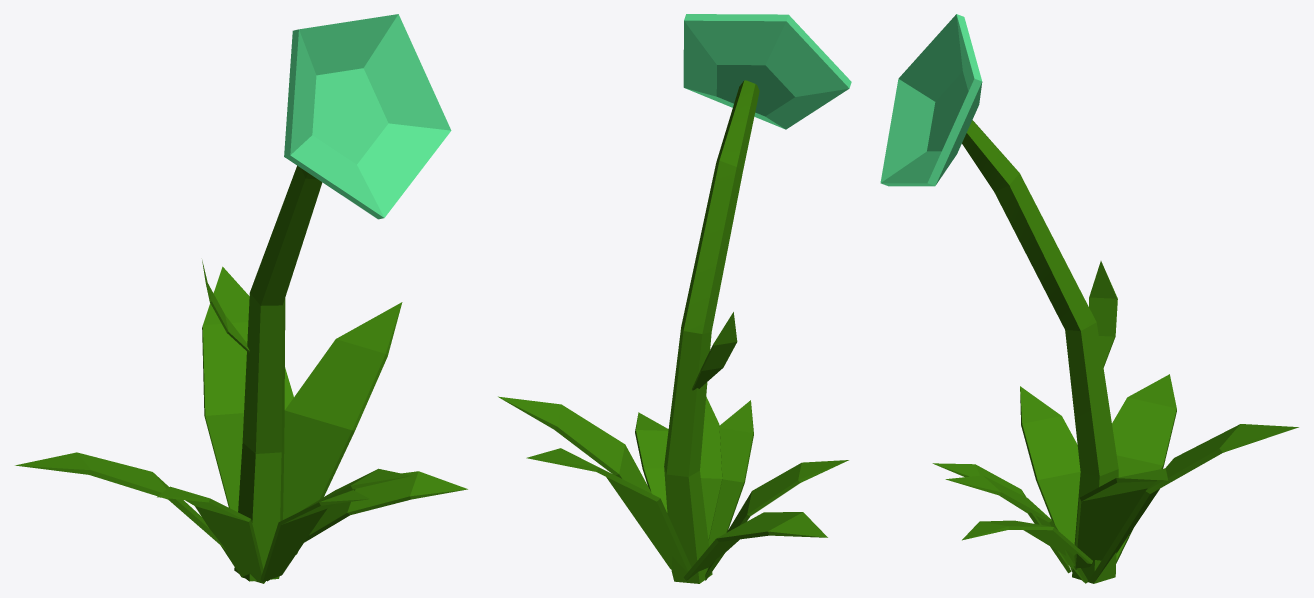
Rendered from Flower_h_a_02.fbx.
The picture shows the model from 3 angles, left to right: view 1: azimuth 30°, elevation 25°; view 2: azimuth 150°, elevation 25°; view 3: azimuth 270°, elevation 25°; orthographic projection. The views are drawn at different scales.
Parts seen in each view (by area): view 1: Flower_h_a_02_LOD0; view 2: Flower_h_a_02_LOD0; view 3: Flower_h_a_02_LOD0.
Part boxes in pixels (<box>): Flower_h_a_02_LOD0: <box>15,14,467,583</box>; Flower_h_a_02_LOD0: <box>498,14,851,583</box>; Flower_h_a_02_LOD0: <box>880,14,1298,583</box>.
Size of what is drawn, in the model's own units: 2.07 by 3.12 by 2.17.
